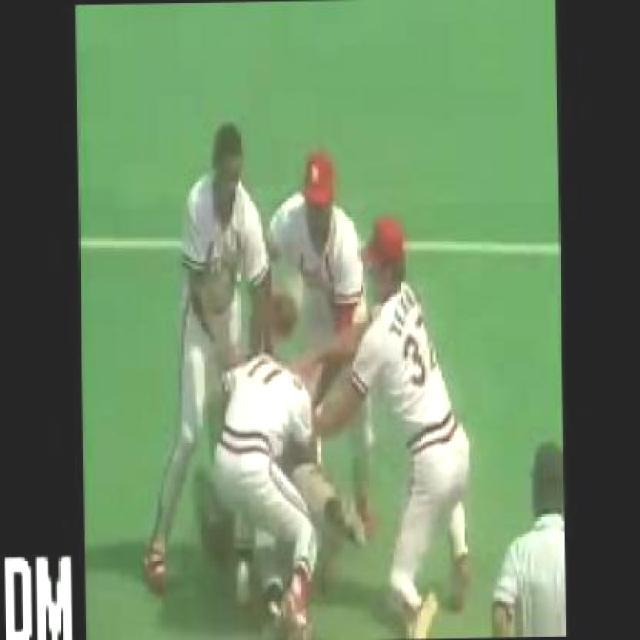fight: (168, 115, 470, 640)
